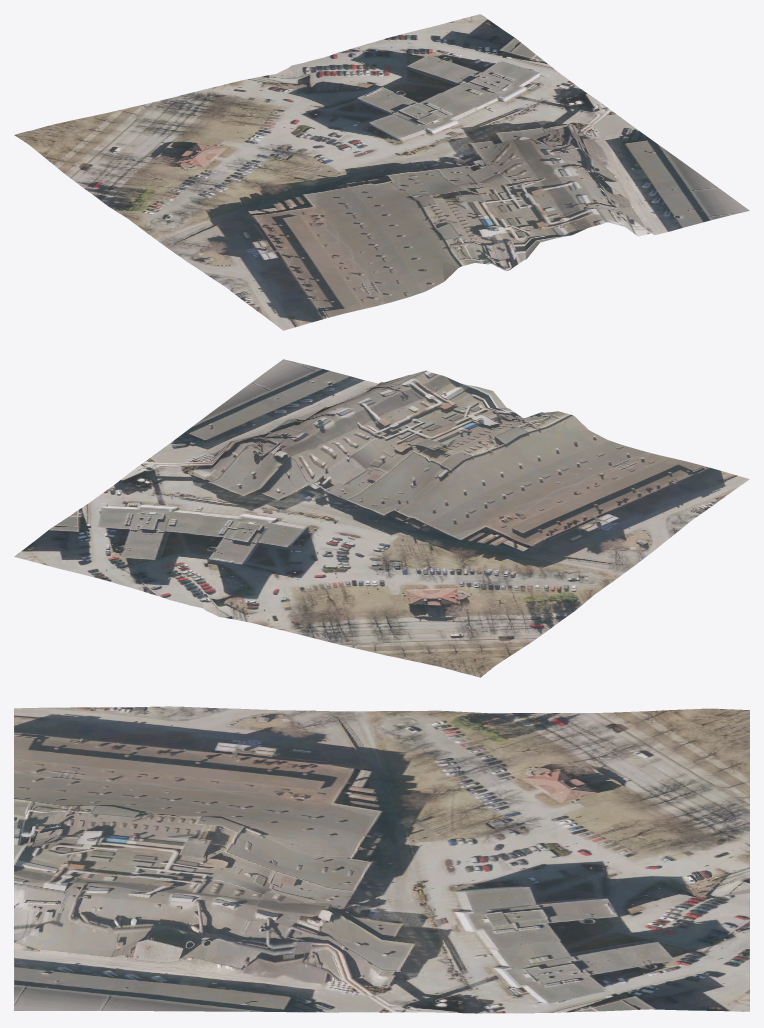
Rendered from CM_Terrain_24487592_6819589.fbx.
3 views of the same model, one above another, from view 1: azimuth 30°, elevation 25°; view 2: azimuth 150°, elevation 25°; view 3: azimuth 270°, elevation 25° (orthographic). The views are drawn at different scales.
Visible parts, largest first — view 1: CM_Terrain_24487592_6819589_LOD0; view 2: CM_Terrain_24487592_6819589_LOD0; view 3: CM_Terrain_24487592_6819589_LOD0.
Part boxes in pixels (x1=…): CM_Terrain_24487592_6819589_LOD0: x1=14, y1=14, x2=749, y2=330; CM_Terrain_24487592_6819589_LOD0: x1=14, y1=359, x2=749, y2=677; CM_Terrain_24487592_6819589_LOD0: x1=14, y1=706, x2=749, y2=1013.
Size of what is drawn, in the model's own units: 205 by 14.93 by 205.
